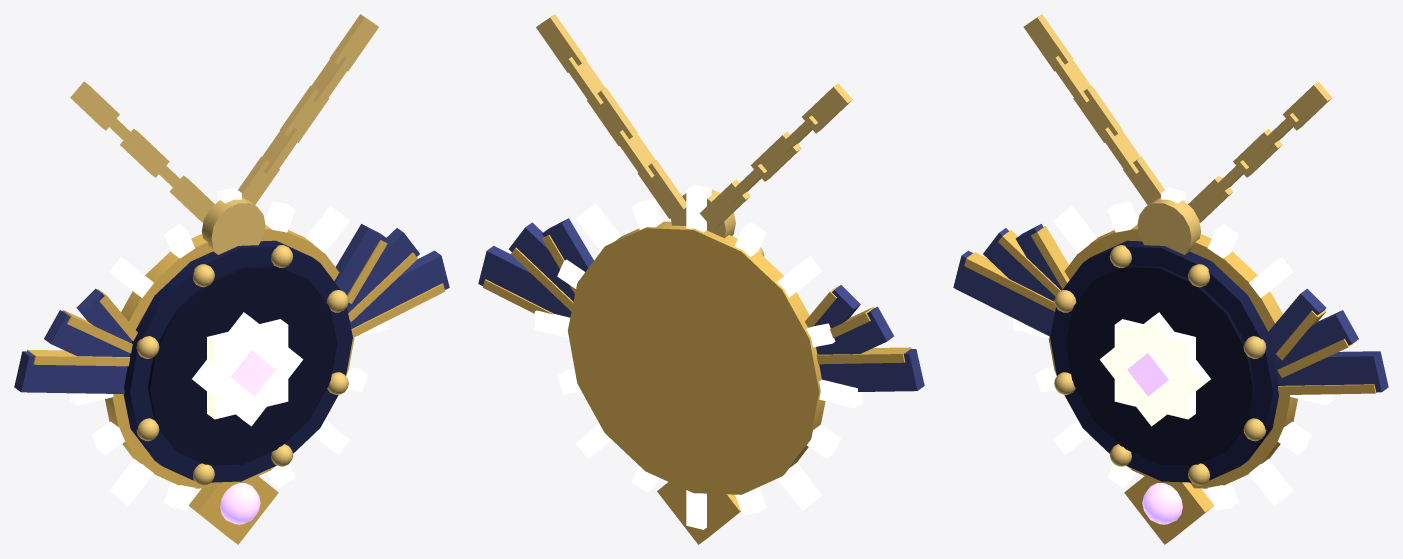
3 views of the same model, side by side, from view 1: azimuth 30°, elevation 25°; view 2: azimuth 150°, elevation 25°; view 3: azimuth 330°, elevation 25° (orthographic). The views are drawn at different scales.
Parts seen in each view (by area): view 1: star-of-the-mandate; view 2: star-of-the-mandate; view 3: star-of-the-mandate.
Part boxes in pixels (x1=…): star-of-the-mandate: x1=14, y1=14, x2=449, y2=544; star-of-the-mandate: x1=478, y1=14, x2=924, y2=544; star-of-the-mandate: x1=953, y1=14, x2=1388, y2=544.
Bounding box in the file's own units: 0.3282 × 0.3554 × 0.0472.
